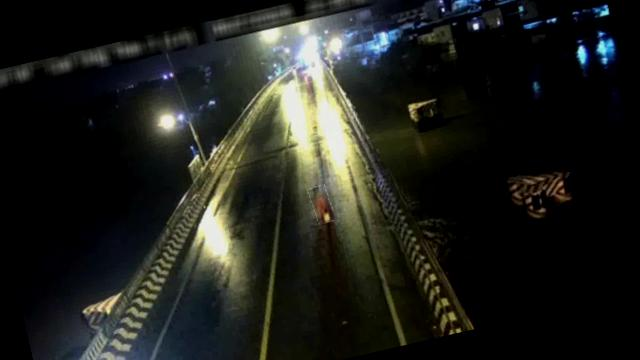Bike: (308, 184, 335, 225)
